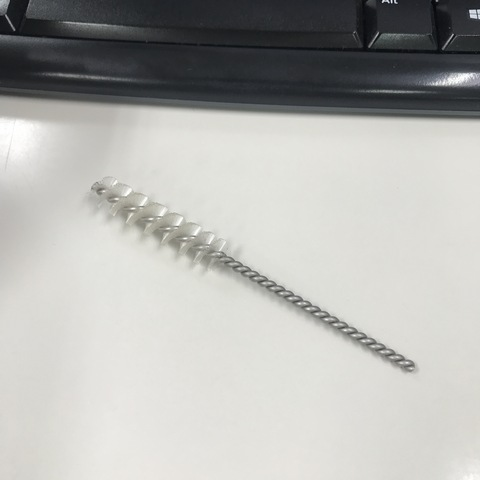Twist Brush-B: (81, 171, 419, 379)
